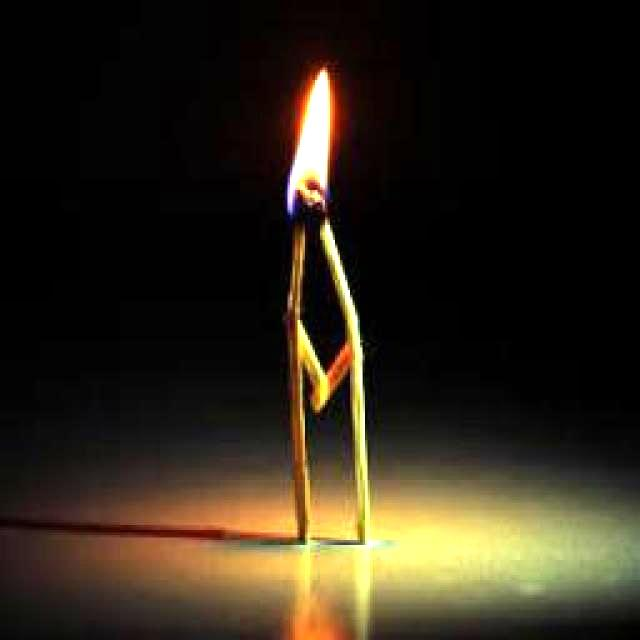fire: (288, 68, 330, 212)
